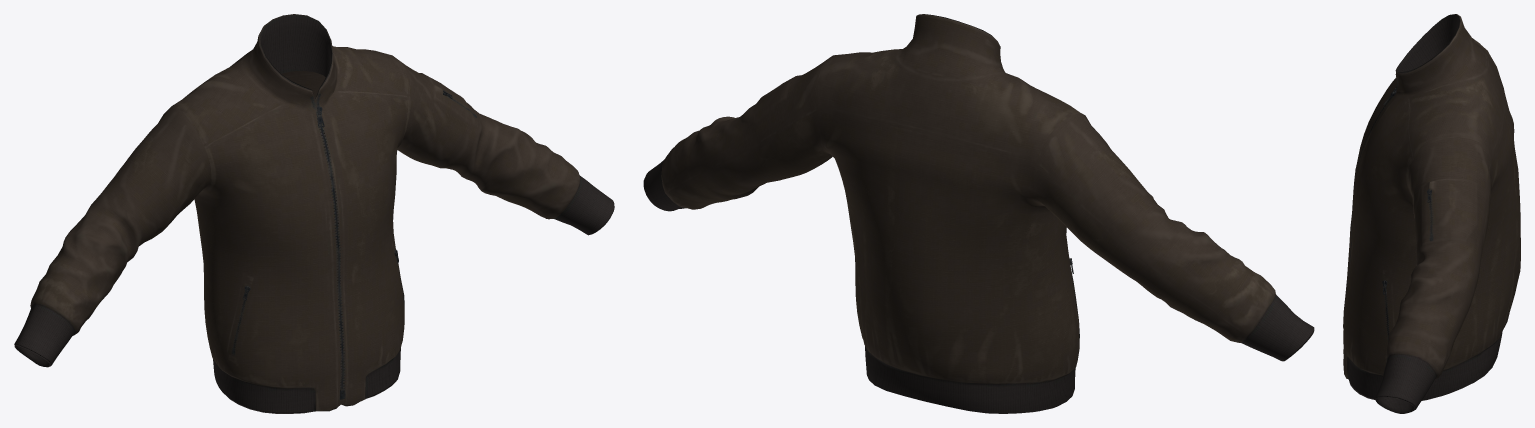
The picture shows the model from 3 angles, left to right: view 1: azimuth 30°, elevation 25°; view 2: azimuth 150°, elevation 25°; view 3: azimuth 270°, elevation 25°; orthographic projection. The views are drawn at different scales.
Parts seen in each view (by area): view 1: Jacket_low; view 2: Jacket_low; view 3: Jacket_low.
Boxes of the visible parts, x1,y1,x2,y2 form: Jacket_low: (14,14,614,413); Jacket_low: (643,14,1314,413); Jacket_low: (1343,14,1520,413).
Bounding box in the file's own units: 2 × 1.13 × 0.5215.
1 material, 1 textured.
